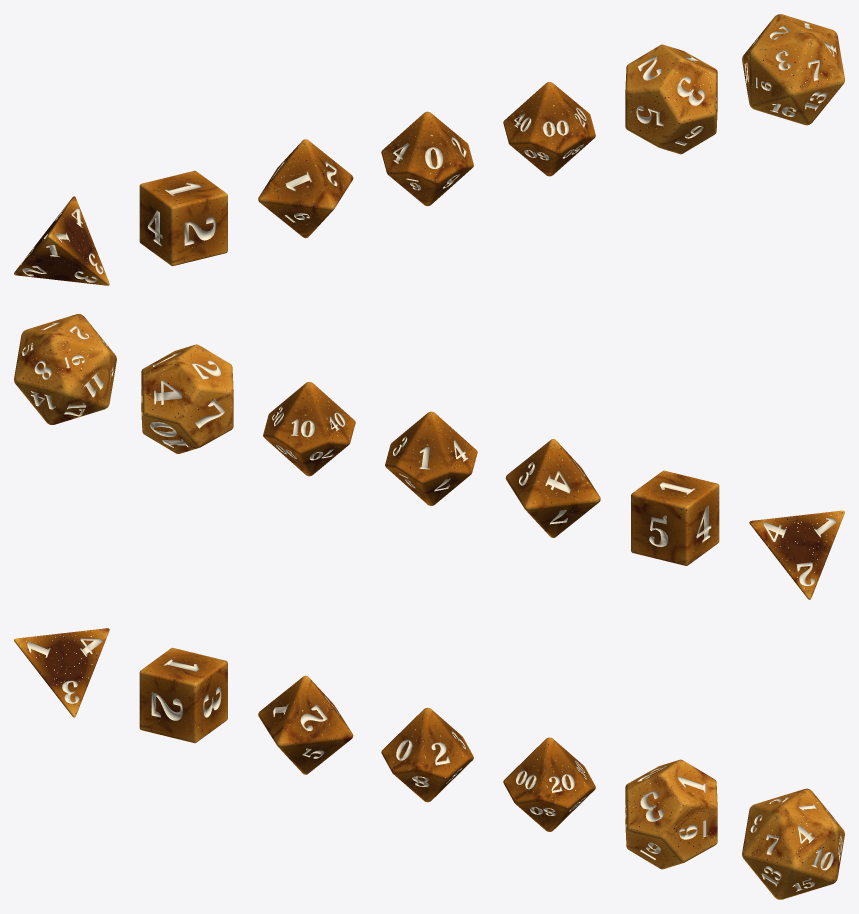
The model's file is amber.glb.
3 views of the same model, one above another, from view 1: azimuth 30°, elevation 25°; view 2: azimuth 150°, elevation 25°; view 3: azimuth 330°, elevation 25° (orthographic).
Parts seen in each view (by area): view 1: d20, d12, d6, d100, d10, d8, d4; view 2: d20, d12, d6, d100, d10, d8, d4; view 3: d20, d12, d6, d8, d100, d10, d4.
Boxes of the visible parts, bbox=[...] form: d20: bbox=[742, 14, 844, 125]; d12: bbox=[625, 44, 717, 154]; d6: bbox=[139, 170, 227, 266]; d100: bbox=[503, 82, 595, 176]; d10: bbox=[381, 111, 473, 206]; d8: bbox=[258, 139, 353, 238]; d4: bbox=[14, 196, 109, 285]; d20: bbox=[14, 314, 116, 424]; d12: bbox=[141, 344, 233, 453]; d6: bbox=[631, 470, 719, 565]; d100: bbox=[263, 382, 355, 476]; d10: bbox=[385, 411, 477, 505]; d8: bbox=[505, 439, 600, 537]; d4: bbox=[749, 510, 844, 599]; d20: bbox=[742, 788, 844, 899]; d12: bbox=[625, 759, 717, 869]; d6: bbox=[139, 647, 227, 743]; d8: bbox=[258, 675, 353, 774]; d100: bbox=[503, 737, 595, 831]; d10: bbox=[381, 707, 473, 802]; d4: bbox=[14, 628, 109, 717].
Bounding box in the file's own units: 21.14 × 2.47 × 2.47.
Materials: 14 (7 with a texture image).
